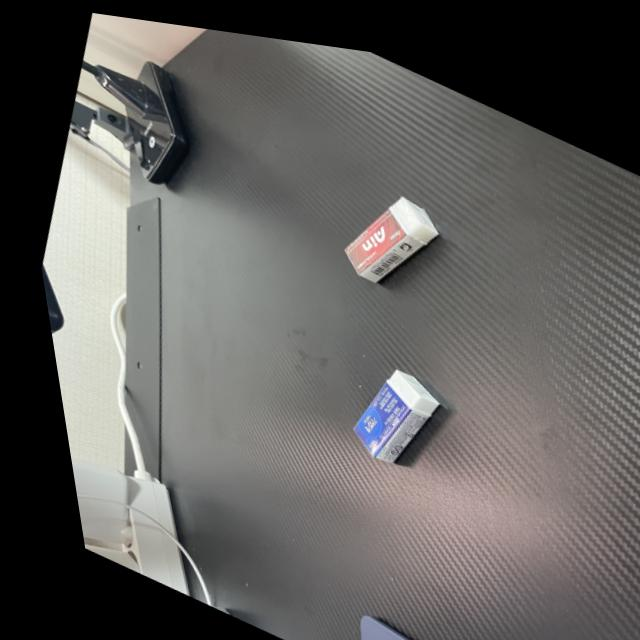blue: (313, 333, 455, 479)
red: (308, 153, 459, 308)
